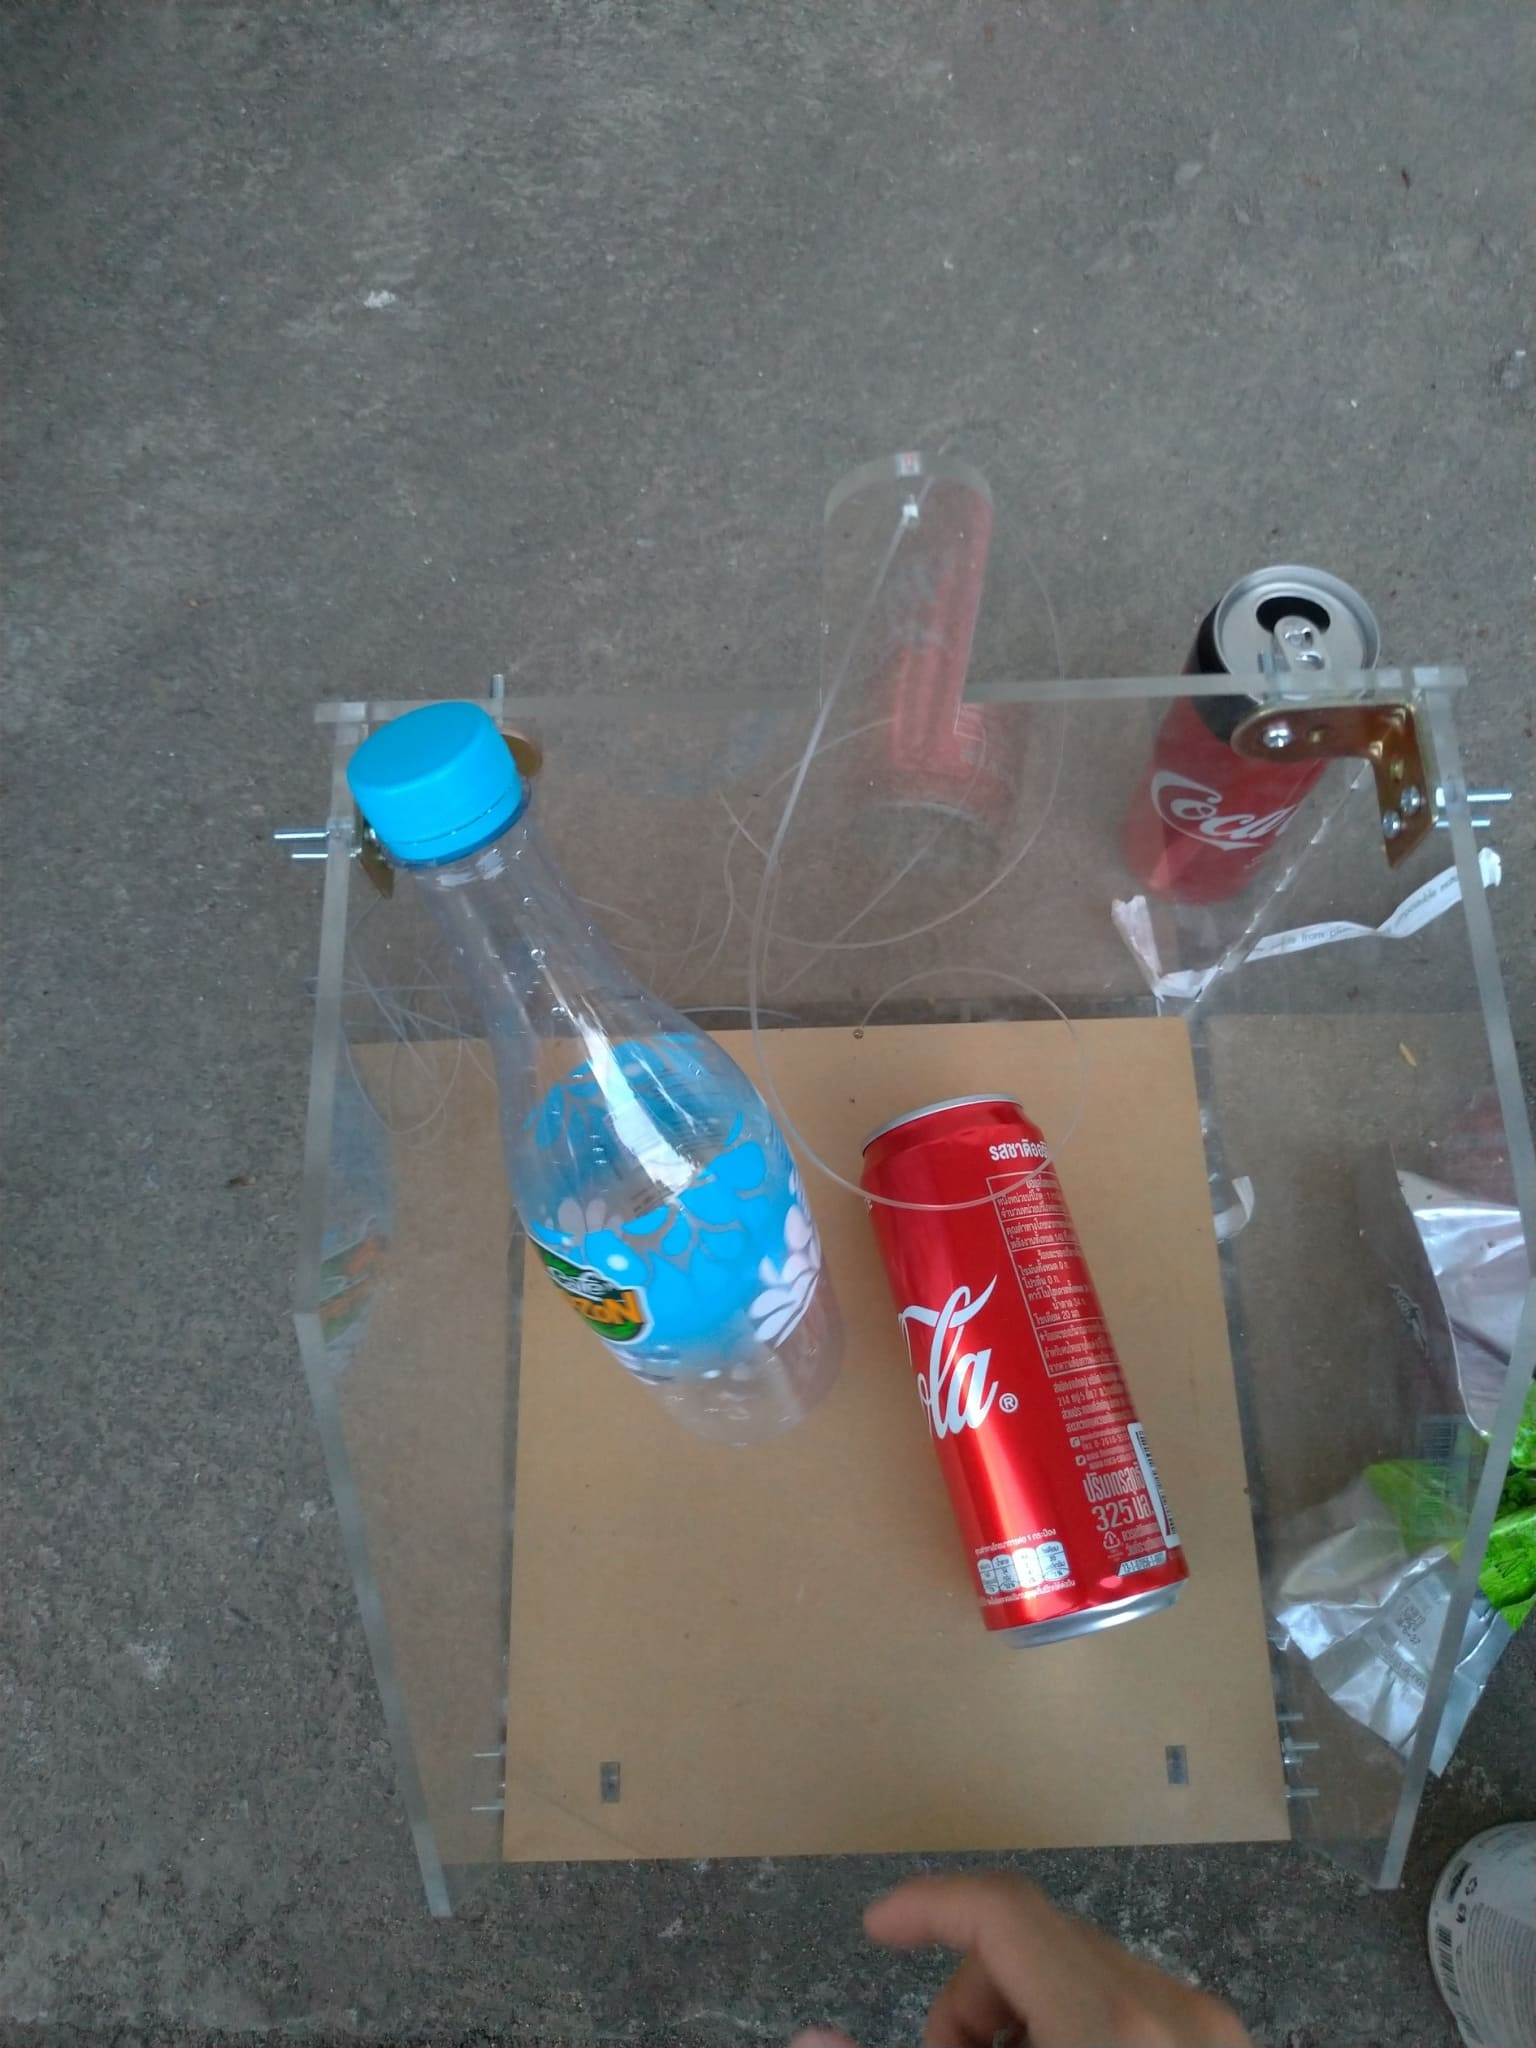AlCan: (854, 1100, 1196, 1648), (1125, 571, 1379, 910), (1434, 1822, 1536, 2048)
Others: (1247, 1158, 1536, 1774)
PlasticBottle: (353, 697, 844, 1448)
